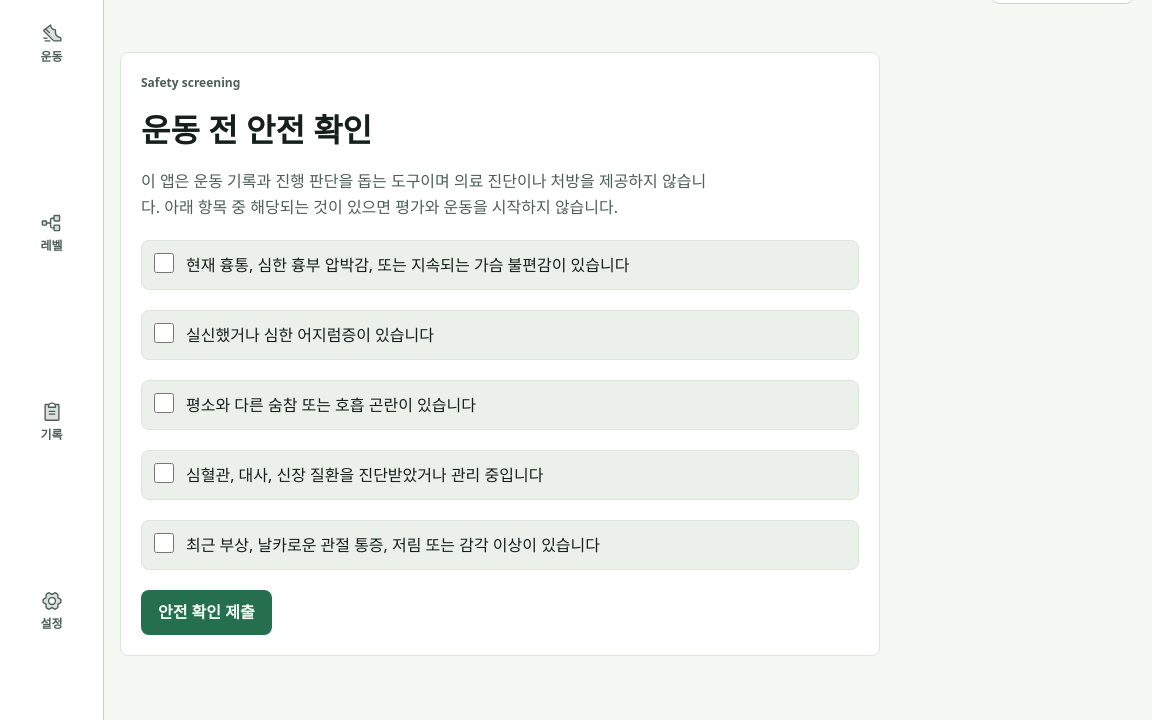
Test case: safety onboarding › persists only the safety clearance timestamp after all answers are clear
(page scrolled)
What coordinates should you click on to do the following:
click the button "안전 확인 제출"
I would click on:
 (206, 613)
Its box is [141,590,272,635].
(page scrolled)
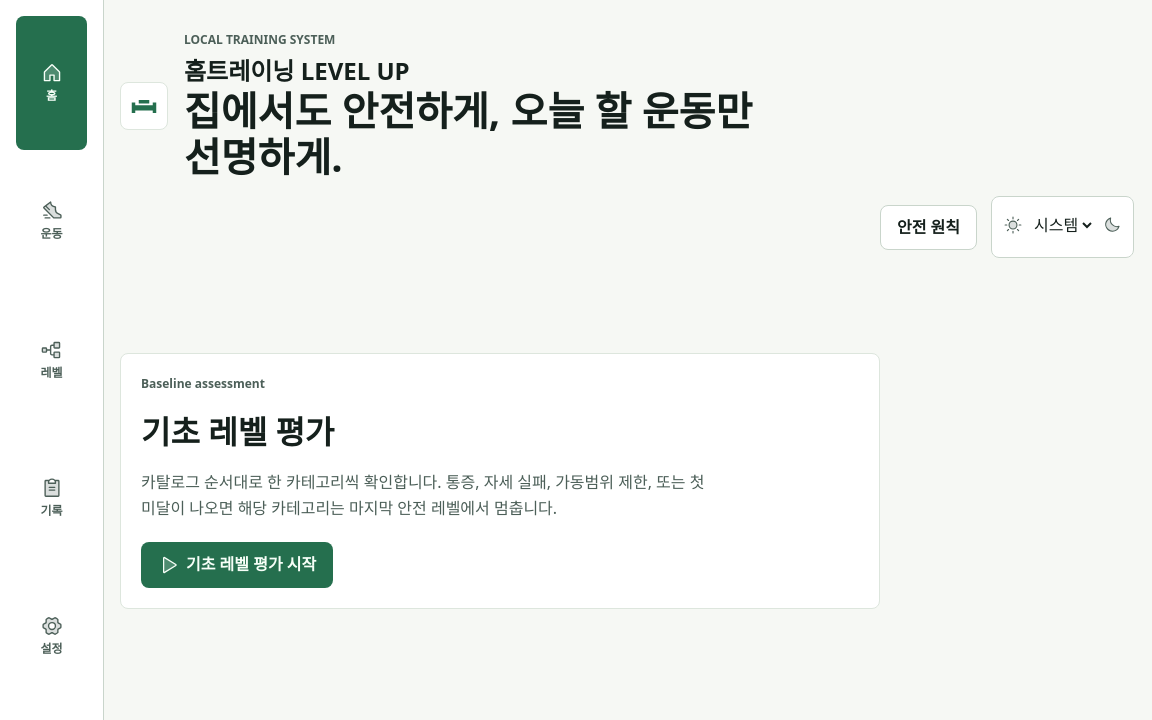
Expected: the button "기초 레벨 평가 시작" is shown, [141,542,333,588]
